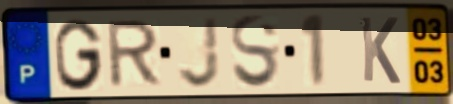1: (297, 11, 326, 91)
G: (52, 16, 106, 93)
J: (176, 15, 223, 91)
K: (357, 14, 403, 87)
R: (106, 17, 165, 91)
S: (227, 12, 282, 92)
